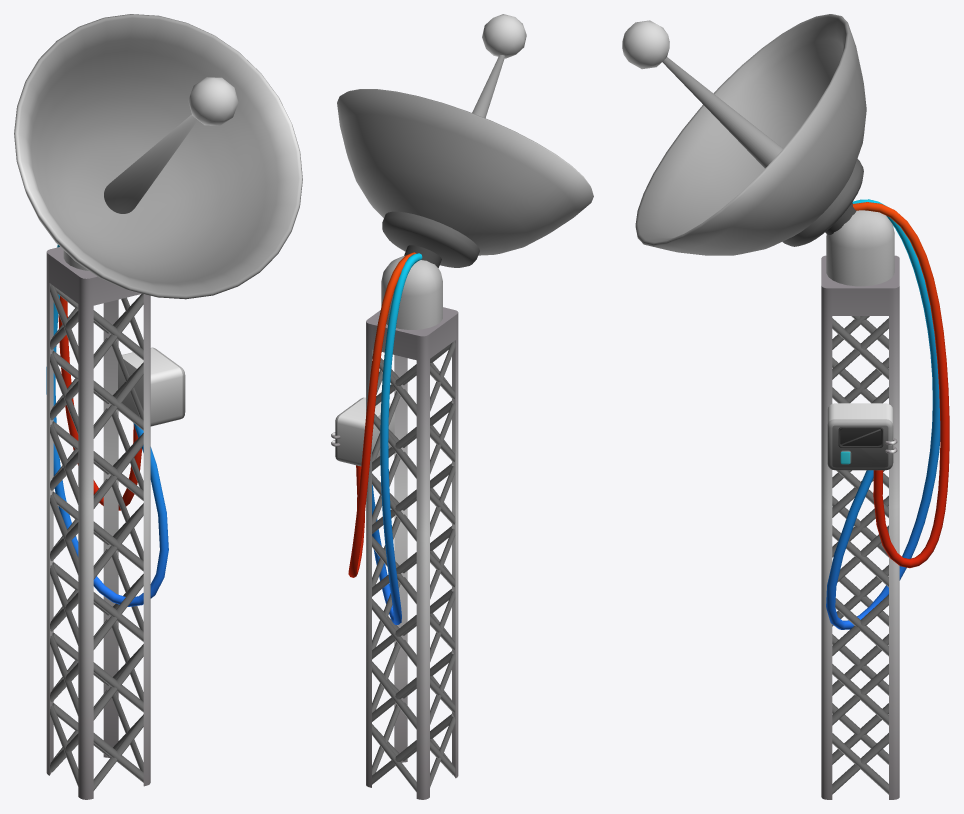
The model's file is Satellite_01.fbx.
3 renders of one model, left to right at view 1: azimuth 30°, elevation 25°; view 2: azimuth 150°, elevation 25°; view 3: azimuth 270°, elevation 25°, orthographic. The views are drawn at different scales.
Parts seen in each view (by area): view 1: Satellite_01; view 2: Satellite_01; view 3: Satellite_01.
Part boxes in pixels (x1,y1,x2,y2): Satellite_01: (14,14,302,799); Satellite_01: (331,14,593,799); Satellite_01: (622,14,949,799).
Bounding box in the file's own units: 417 × 1160 × 451.
